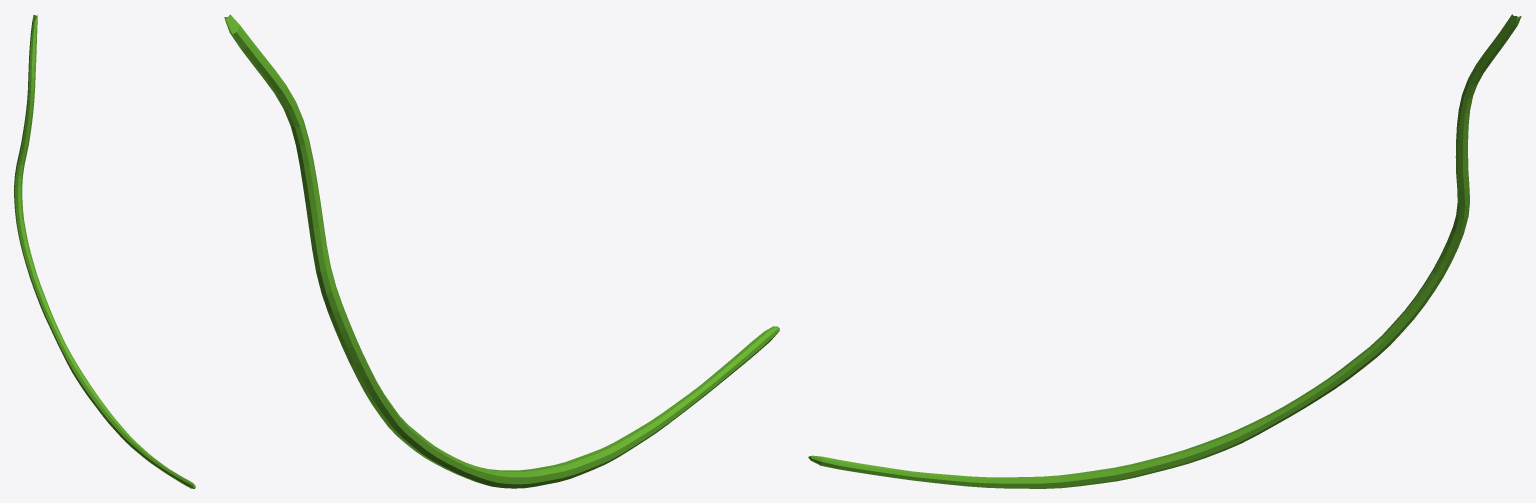
The model's file is Hypoglossal_nerve_R.glb.
The picture shows the model from 3 angles, left to right: view 1: azimuth 30°, elevation 25°; view 2: azimuth 150°, elevation 25°; view 3: azimuth 270°, elevation 25°; orthographic projection. The views are drawn at different scales.
Visible parts, largest first — view 1: Hypoglossal_nerve_R.001; view 2: Hypoglossal_nerve_R.001; view 3: Hypoglossal_nerve_R.001.
Boxes of the visible parts, bbox=[...] form: Hypoglossal_nerve_R.001: bbox=[14, 15, 195, 488]; Hypoglossal_nerve_R.001: bbox=[224, 14, 779, 488]; Hypoglossal_nerve_R.001: bbox=[808, 14, 1521, 488].
Bounding box in the file's own units: 0.0434 × 0.2141 × 0.2696.
1 material, 1 textured.
